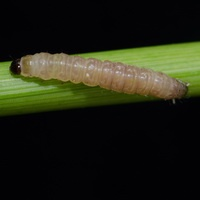insect: (10, 52, 187, 98)
